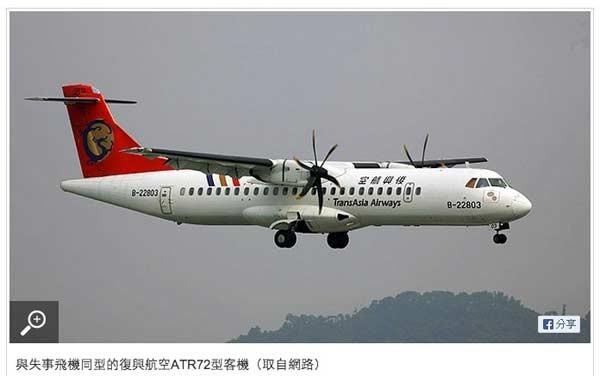airplane: (23, 78, 534, 246)
